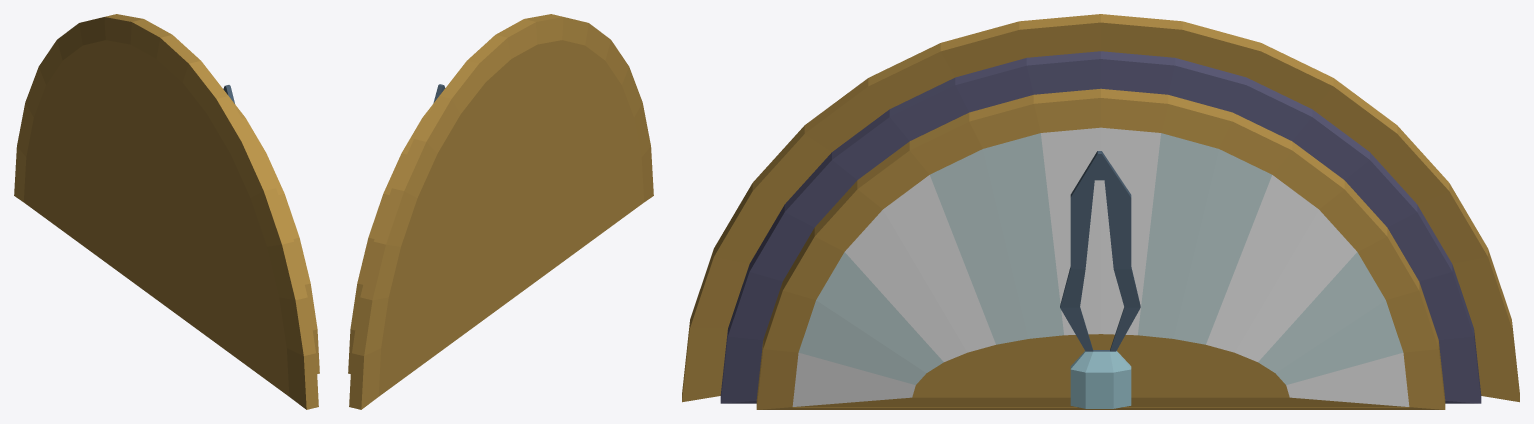
File: elevatorDialFIXED.fbx
The picture shows the model from 3 angles, left to right: view 1: azimuth 30°, elevation 25°; view 2: azimuth 150°, elevation 25°; view 3: azimuth 270°, elevation 25°; orthographic projection. The views are drawn at different scales.
Visible parts, largest first — view 1: Cylinder; view 2: Cylinder; view 3: Cylinder, Cube.
Boxes of the visible parts, x1,y1,x2,y2 form: Cylinder: (14,14,319,409); Cylinder: (348,14,653,409); Cylinder: (682,14,1519,409); Cube: (1060,151,1140,408).
Bounding box in the file's own units: 41.46 × 136 × 272.
